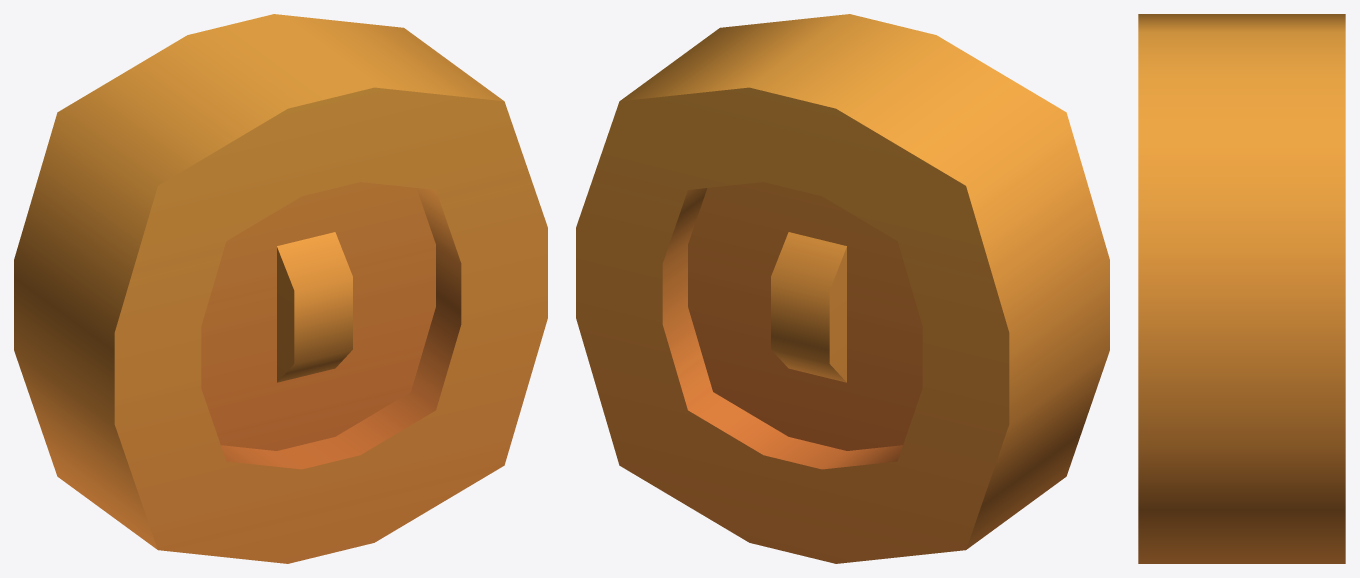
3 renders of one model, left to right at view 1: azimuth 30°, elevation 25°; view 2: azimuth 150°, elevation 25°; view 3: azimuth 270°, elevation 25°, orthographic. The views are drawn at different scales.
Parts seen in each view (by area): view 1: coin; view 2: coin; view 3: coin.
Part boxes in pixels (bbox=[...]): coin: bbox=[14, 14, 547, 563]; coin: bbox=[576, 14, 1109, 563]; coin: bbox=[1138, 14, 1345, 563].
Size of the model in its own units: 0.415 by 0.4167 by 0.1667.
1 material, 1 textured.
